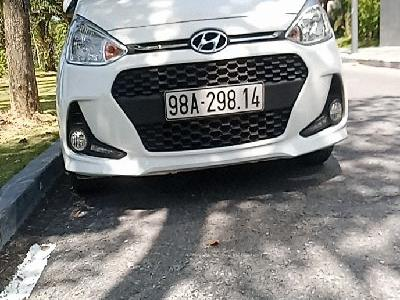lisence: (163, 79, 265, 122)
